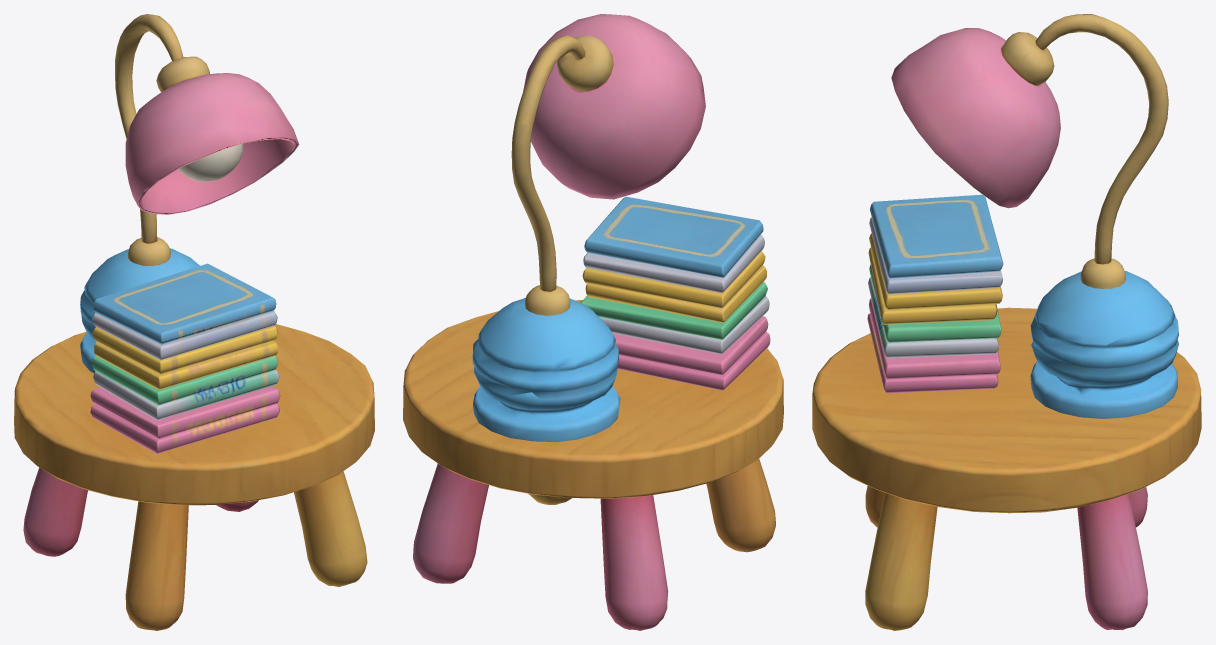
File: books-globe-lamp.glb
The picture shows the model from 3 angles, left to right: view 1: azimuth 30°, elevation 25°; view 2: azimuth 150°, elevation 25°; view 3: azimuth 270°, elevation 25°; orthographic projection. The views are drawn at different scales.
Parts seen in each view (by area): view 1: geometry_0; view 2: geometry_0; view 3: geometry_0.
Boxes of the visible parts, x1,y1,x2,y2 form: geometry_0: (14,14,374,630); geometry_0: (403,14,783,630); geometry_0: (812,14,1201,630).
Bounding box in the file's own units: 0.632 × 1 × 0.63.
1 material, 1 textured.
